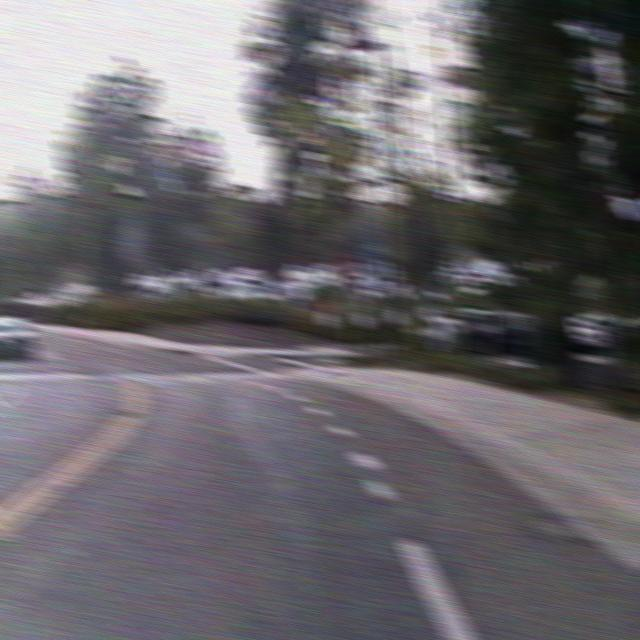stop: (331, 250, 362, 285)
